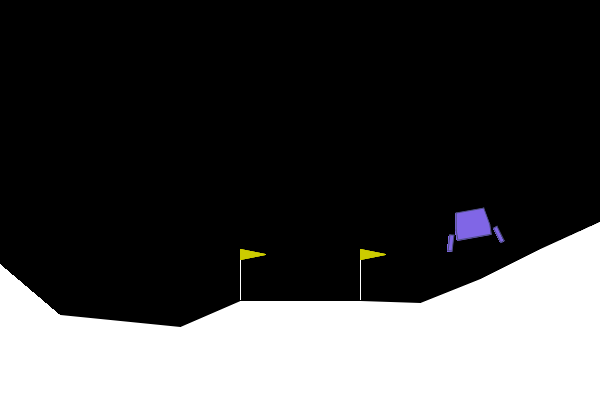lander: (440, 204, 506, 253)
